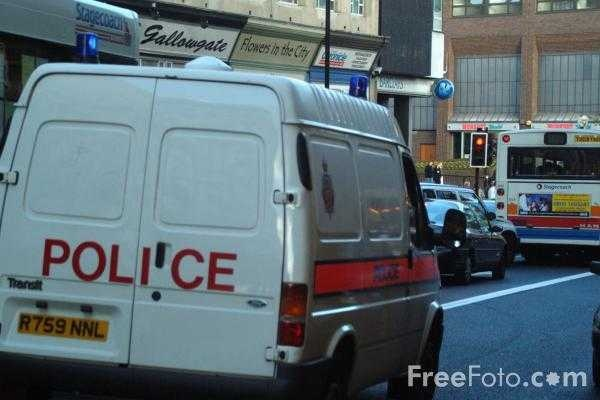Police Van: (5, 14, 454, 400)
